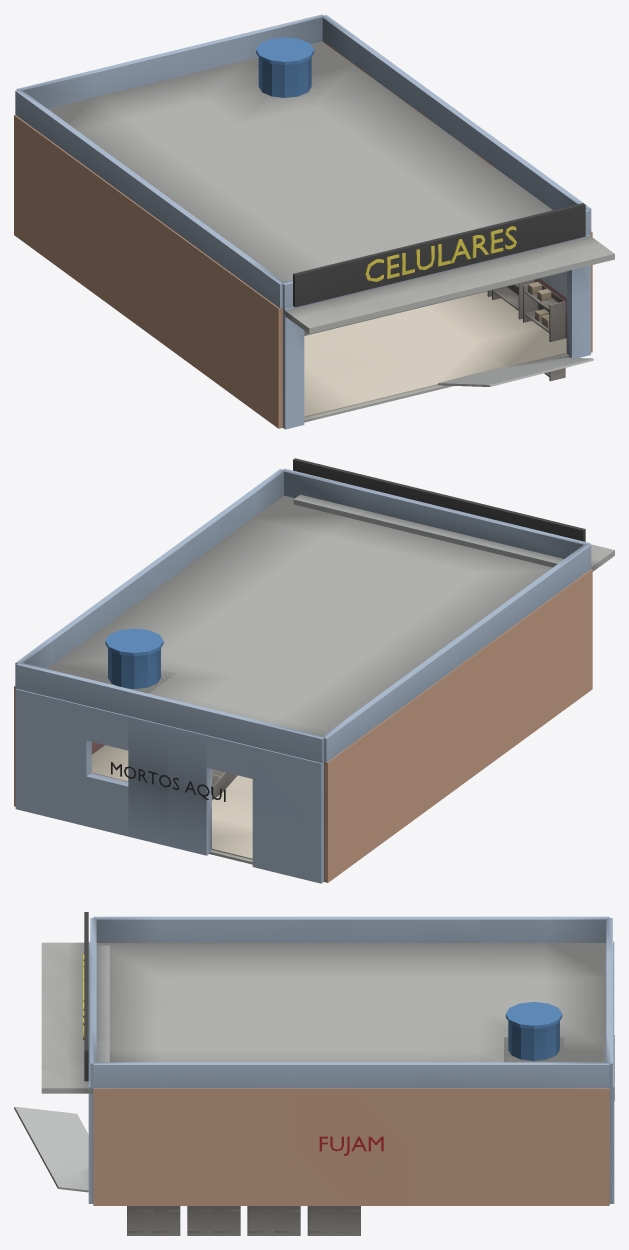
Rendered from sobrado_12.glb.
The picture shows the model from 3 angles, top to bottom: view 1: azimuth 30°, elevation 25°; view 2: azimuth 150°, elevation 25°; view 3: azimuth 270°, elevation 25°; orthographic projection. The views are drawn at different scales.
Parts seen in each view (by area): view 1: longe, ext, dentro, detalhe; view 2: longe, ext, dentro, detalhe; view 3: longe, ext, dentro, detalhe.
Part boxes in pixels (x1,y1,x2,y2): longe: [15, 14, 614, 386]; ext: [14, 41, 592, 429]; dentro: [143, 44, 569, 422]; detalhe: [244, 37, 516, 281]; longe: [15, 458, 614, 762]; ext: [14, 496, 592, 883]; dentro: [57, 663, 252, 864]; detalhe: [95, 628, 225, 801]; longe: [14, 912, 612, 1192]; ext: [88, 941, 614, 1205]; dentro: [127, 1042, 604, 1235]; detalhe: [83, 953, 614, 1155].
Size of what is drawn, in the model's own units: 8.23 by 4.82 by 13.97.
